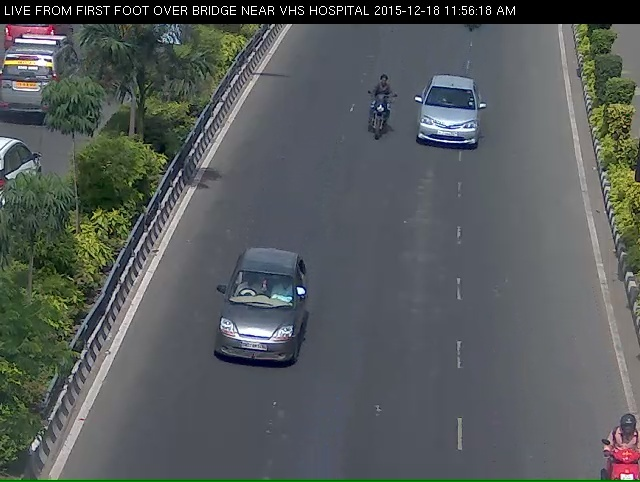Car: (194, 275, 313, 413), (417, 75, 481, 158)
Person: (360, 87, 398, 166)
